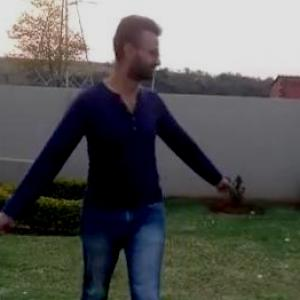land: (0, 1, 273, 299)
